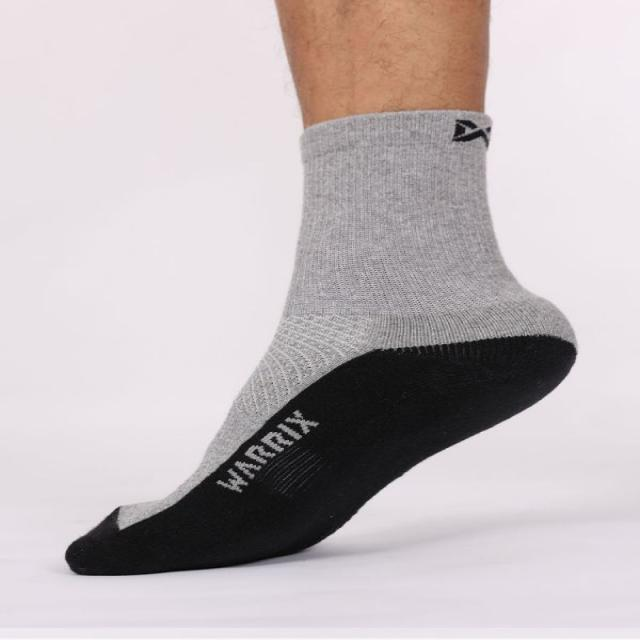sock: (64, 108, 578, 575)
